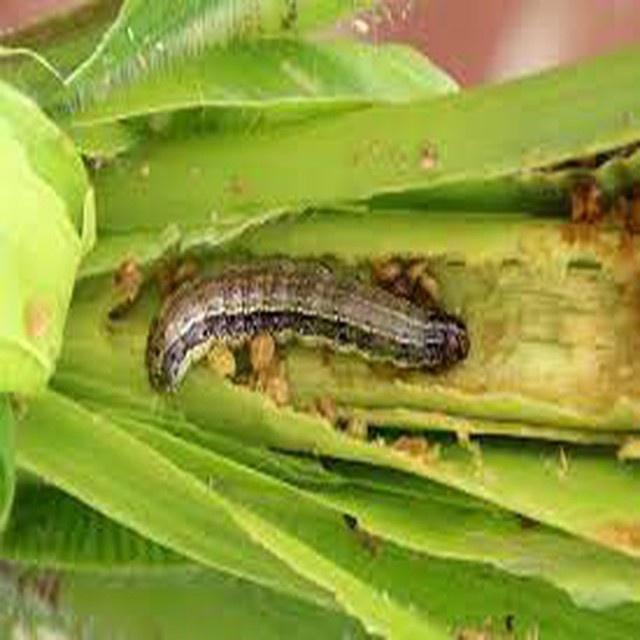gusano_cogollero: (140, 261, 470, 399)
